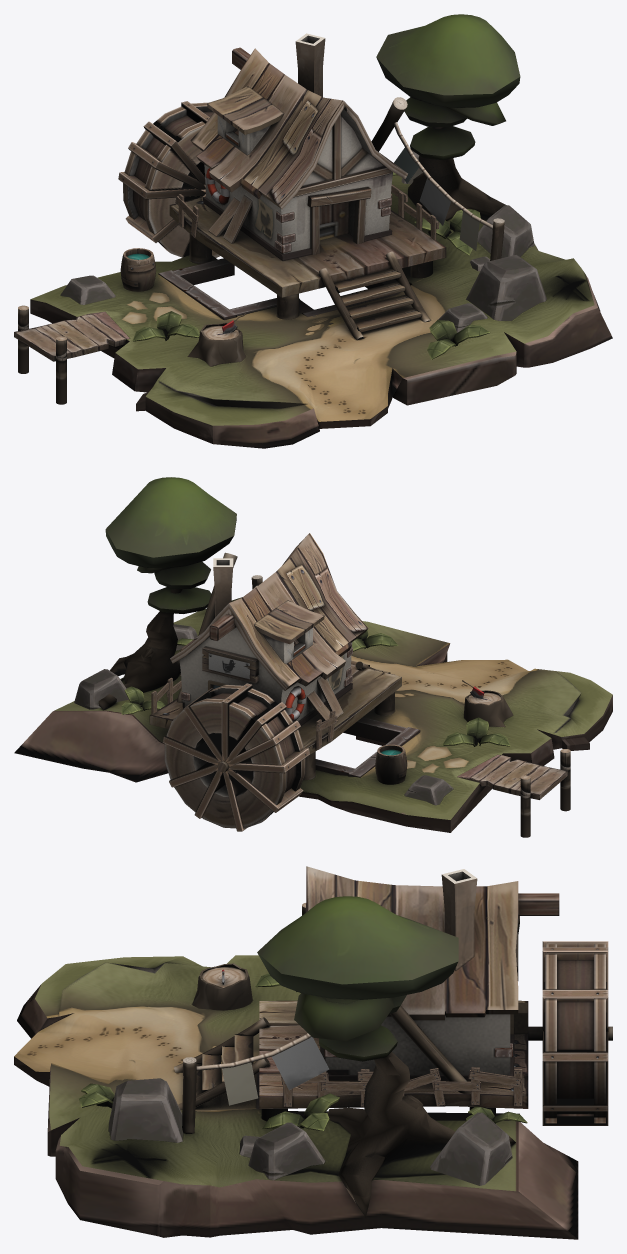
The model's file is mill_without_water.obj.
3 renders of one model, top to bottom at view 1: azimuth 30°, elevation 25°; view 2: azimuth 150°, elevation 25°; view 3: azimuth 270°, elevation 25°, orthographic. The views are drawn at different scales.
Parts seen in each view (by area): view 1: m_Ground_Untitled.012, m_House_Untitled.008, m_Tree_Untitled.014, m_Rock_Untitled.013, m_Pier_Untitled.003, m_WoodenBeams_Untitled, m_Clothline_Untitled.010, m_Plants_Untitled.002, m_StoneLedge_Untitled.011, m_Log_Untitled.004, m_Barrel_Untitled.005, m_Fence_Untitled.007 (+1 smaller); view 2: m_House_Untitled.008, m_Ground_Untitled.012, m_Tree_Untitled.014, m_Pier_Untitled.003, m_Rock_Untitled.013, m_Plants_Untitled.002, m_StoneLedge_Untitled.011, m_Log_Untitled.004, m_Barrel_Untitled.005, m_Fence_Untitled.007, m_WoodenBeams_Untitled, m_Clothline_Untitled.010; view 3: m_Ground_Untitled.012, m_House_Untitled.008, m_Tree_Untitled.014, m_Rock_Untitled.013, m_Clothline_Untitled.010, m_Fence_Untitled.007, m_Plants_Untitled.002, m_Log_Untitled.004, m_StoneLedge_Untitled.011.
Part boxes in pixels (<box>): m_Ground_Untitled.012: <box>30,175,612,448</box>; m_House_Untitled.008: <box>118,33,446,340</box>; m_Tree_Untitled.014: <box>376,14,520,235</box>; m_Rock_Untitled.013: <box>60,150,546,332</box>; m_Pier_Untitled.003: <box>14,305,129,404</box>; m_WoodenBeams_Untitled: <box>208,113,391,254</box>; m_Clothline_Untitled.010: <box>371,97,504,260</box>; m_Plants_Untitled.002: <box>132,172,490,359</box>; m_StoneLedge_Untitled.011: <box>158,258,399,319</box>; m_Log_Untitled.004: <box>187,313,246,366</box>; m_Barrel_Untitled.005: <box>120,248,155,291</box>; m_Fence_Untitled.007: <box>175,184,439,240</box>; m_House_Untitled.008: <box>149,533,401,831</box>; m_Ground_Untitled.012: <box>14,597,612,832</box>; m_Tree_Untitled.014: <box>98,477,236,709</box>; m_Pier_Untitled.003: <box>457,749,570,837</box>; m_Rock_Untitled.013: <box>74,624,453,805</box>; m_Plants_Untitled.002: <box>121,622,510,746</box>; m_StoneLedge_Untitled.011: <box>315,715,420,777</box>; m_Log_Untitled.004: <box>462,680,513,726</box>; m_Barrel_Untitled.005: <box>375,744,407,784</box>; m_Fence_Untitled.007: <box>151,673,336,749</box>; m_WoodenBeams_Untitled: <box>307,677,343,721</box>; m_Clothline_Untitled.010: <box>176,552,262,702</box>; m_Ground_Untitled.012: <box>14,955,578,1239</box>; m_House_Untitled.008: <box>174,866,612,1125</box>; m_Tree_Untitled.014: <box>257,896,515,1217</box>; m_Rock_Untitled.013: <box>108,1078,512,1185</box>; m_Clothline_Untitled.010: <box>182,1005,470,1133</box>; m_Fence_Untitled.007: <box>281,1067,522,1107</box>; m_Plants_Untitled.002: <box>79,973,527,1130</box>; m_Log_Untitled.004: <box>192,963,252,1010</box>; m_StoneLedge_Untitled.011: <box>256,1060,519,1120</box>.
Size of the model in its own units: 2.06 by 1.06 by 1.78.
Materials: 21 (21 with a texture image).
